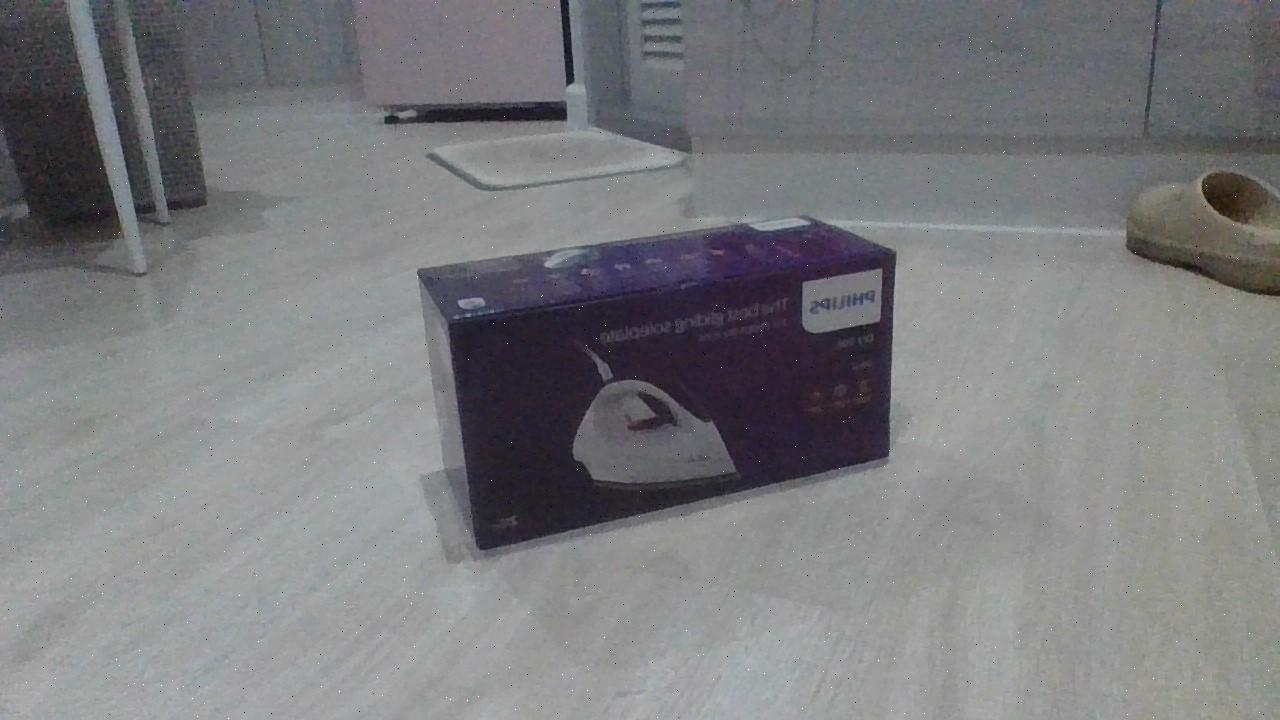IRON: (413, 209, 903, 558)
